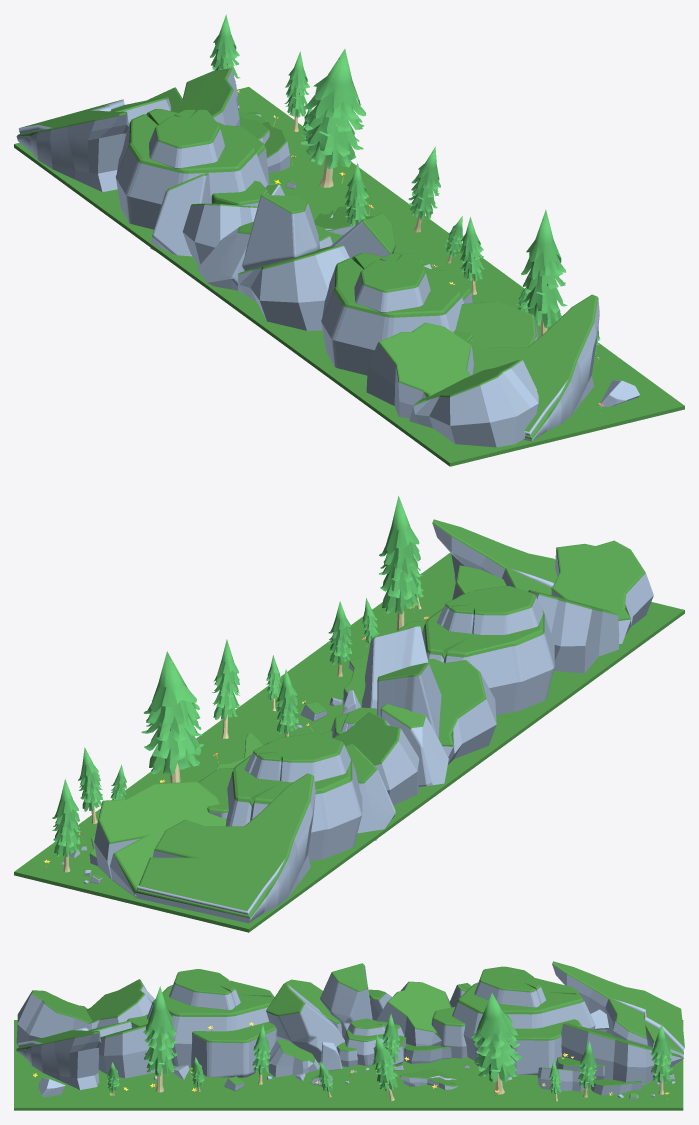
Rendered from Pebble's Road Section 03.fbx.
The picture shows the model from 3 angles, top to bottom: view 1: azimuth 30°, elevation 25°; view 2: azimuth 150°, elevation 25°; view 3: azimuth 270°, elevation 25°; orthographic projection. The views are drawn at different scales.
Visible parts, largest first — view 1: Ground_, Rock_10__3, Rock_10__6, Rock_02__4, Rock_07__9, Rock_02__2, Rock_07__10, Rock_07__12, Tree_03, Rock_13_3, Tree_03__3_, Rock_04__13 (+13 smaller); view 2: Ground_, Rock_02__2, Rock_10__6, Rock_10__3, Rock_04__12, Rock_07__9, Rock_07__12, Tree_03, Rock_07__10, Rock_02__4, Rock_07__7, Tree_03__3_ (+11 smaller); view 3: Ground_, Rock_10__6, Rock_10__3, Rock_02__2, Rock_02__4, Rock_04__12, Rock_13_, Rock_07__7, Tree_03, Rock_07__9, Rock_13_3, Rock_04__13 (+23 smaller).
Boxes of the visible parts, x1,y1,x2,y2 form: Ground_: [14, 87, 684, 466]; Rock_10__3: [116, 108, 269, 229]; Rock_10__6: [321, 252, 473, 375]; Rock_02__4: [466, 294, 599, 441]; Rock_07__9: [409, 359, 538, 447]; Rock_02__2: [16, 96, 171, 191]; Rock_07__10: [366, 322, 473, 418]; Rock_07__12: [238, 245, 349, 330]; Tree_03: [301, 49, 365, 187]; Rock_13_3: [242, 194, 320, 270]; Tree_03__3_: [521, 209, 567, 336]; Rock_04__13: [455, 301, 538, 347]; Ground_: [14, 553, 684, 932]; Rock_02__2: [135, 773, 315, 923]; Rock_10__6: [396, 586, 554, 715]; Rock_10__3: [198, 733, 362, 861]; Rock_04__12: [94, 781, 226, 898]; Rock_07__9: [551, 540, 653, 643]; Rock_07__12: [428, 659, 496, 764]; Tree_03: [141, 651, 203, 782]; Rock_07__10: [528, 590, 619, 673]; Rock_02__4: [432, 519, 557, 594]; Rock_07__7: [333, 712, 420, 804]; Tree_03__3_: [379, 496, 422, 630]; Ground_: [14, 1020, 683, 1110]; Rock_10__6: [127, 969, 278, 1077]; Rock_10__3: [431, 966, 595, 1074]; Rock_02__2: [552, 961, 684, 1058]; Rock_02__4: [16, 1020, 131, 1089]; Rock_04__12: [561, 1023, 682, 1084]; Rock_13_: [266, 983, 344, 1062]; Rock_07__7: [375, 981, 451, 1046]; Tree_03: [471, 993, 521, 1094]; Rock_07__9: [16, 990, 92, 1044]; Rock_13_3: [320, 963, 372, 1038]; Rock_04__13: [98, 1024, 155, 1078].
Bounding box in the file's own units: 7128 × 4464 × 22552.
